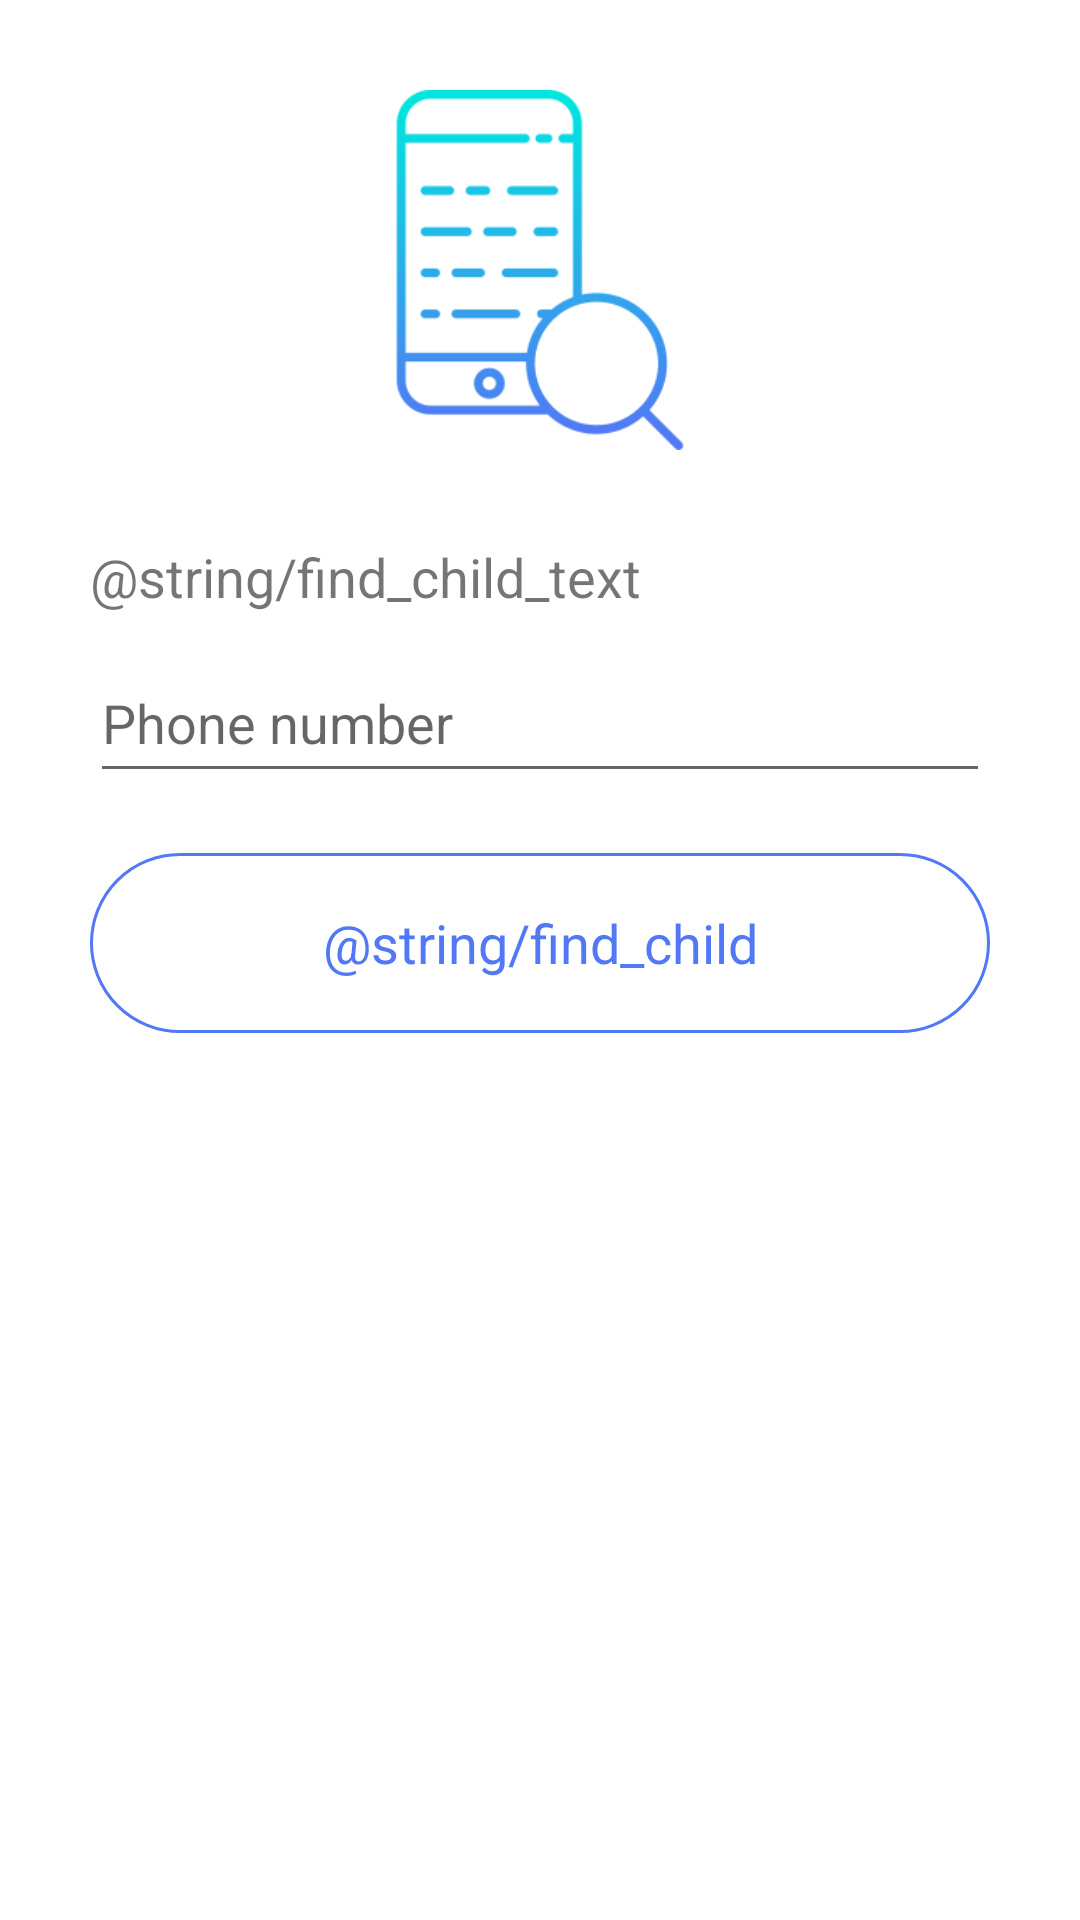

Screen size 1080px×1920px. Icon name, then its center in pixels as (x=x, y=y):
search: (x=540, y=270)
